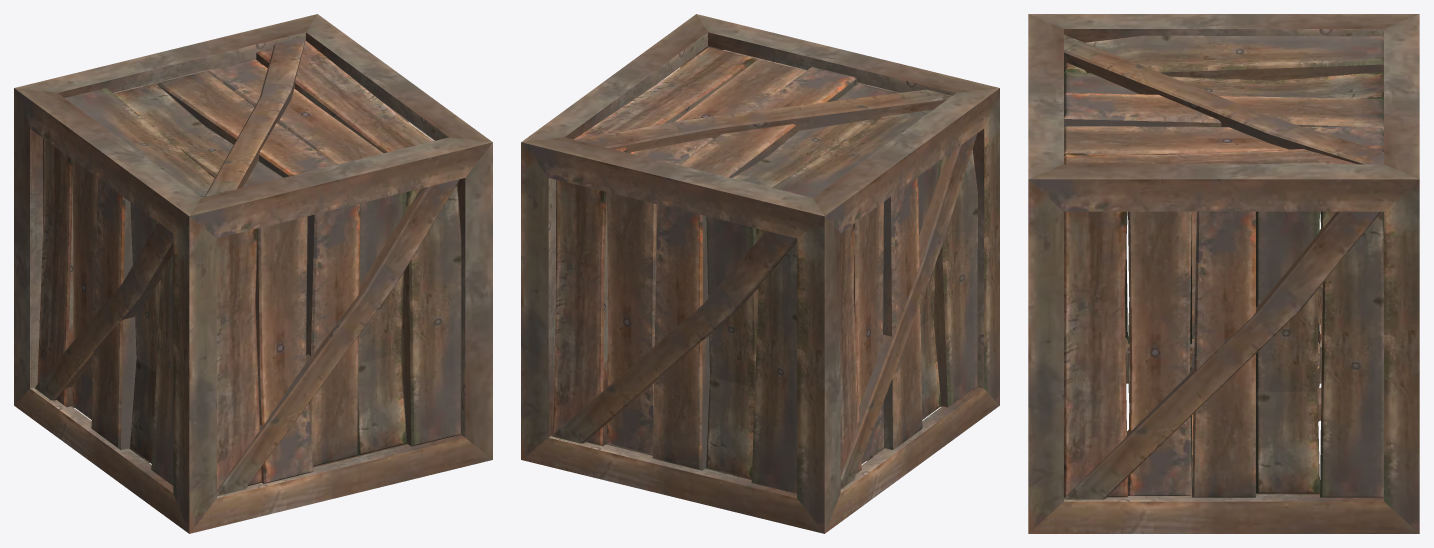
3 views of the same model, side by side, from view 1: azimuth 30°, elevation 25°; view 2: azimuth 150°, elevation 25°; view 3: azimuth 270°, elevation 25° (orthographic). The views are drawn at different scales.
Visible parts, largest first — view 1: SM_Castle_Crate_01_v1_LOD0; view 2: SM_Castle_Crate_01_v1_LOD0; view 3: SM_Castle_Crate_01_v1_LOD0.
Part boxes in pixels (box(x1,y1,x2,y2)): SM_Castle_Crate_01_v1_LOD0: box(14, 14, 492, 533); SM_Castle_Crate_01_v1_LOD0: box(521, 14, 999, 533); SM_Castle_Crate_01_v1_LOD0: box(1028, 14, 1419, 533).
Bounding box in the file's own units: 0.6605 × 0.6605 × 0.6605.
1 material, 1 textured.
